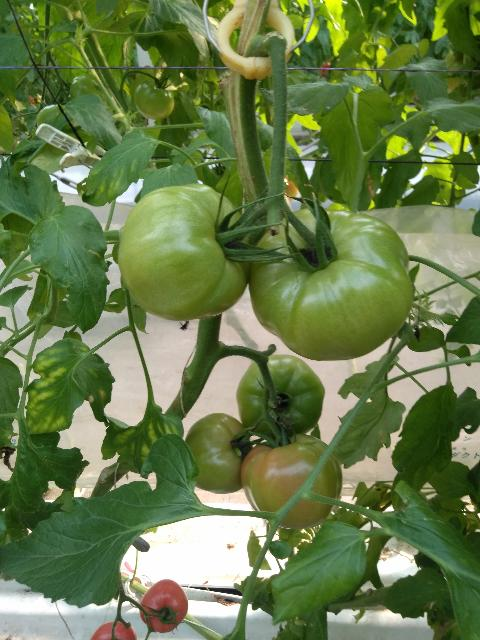b_fully_ripened: (139, 579, 188, 632), (91, 621, 137, 640)
b_green: (249, 205, 412, 361), (118, 184, 254, 322), (236, 354, 325, 441), (184, 413, 253, 494), (134, 80, 175, 120)
b_half_ripened: (240, 433, 343, 529)
